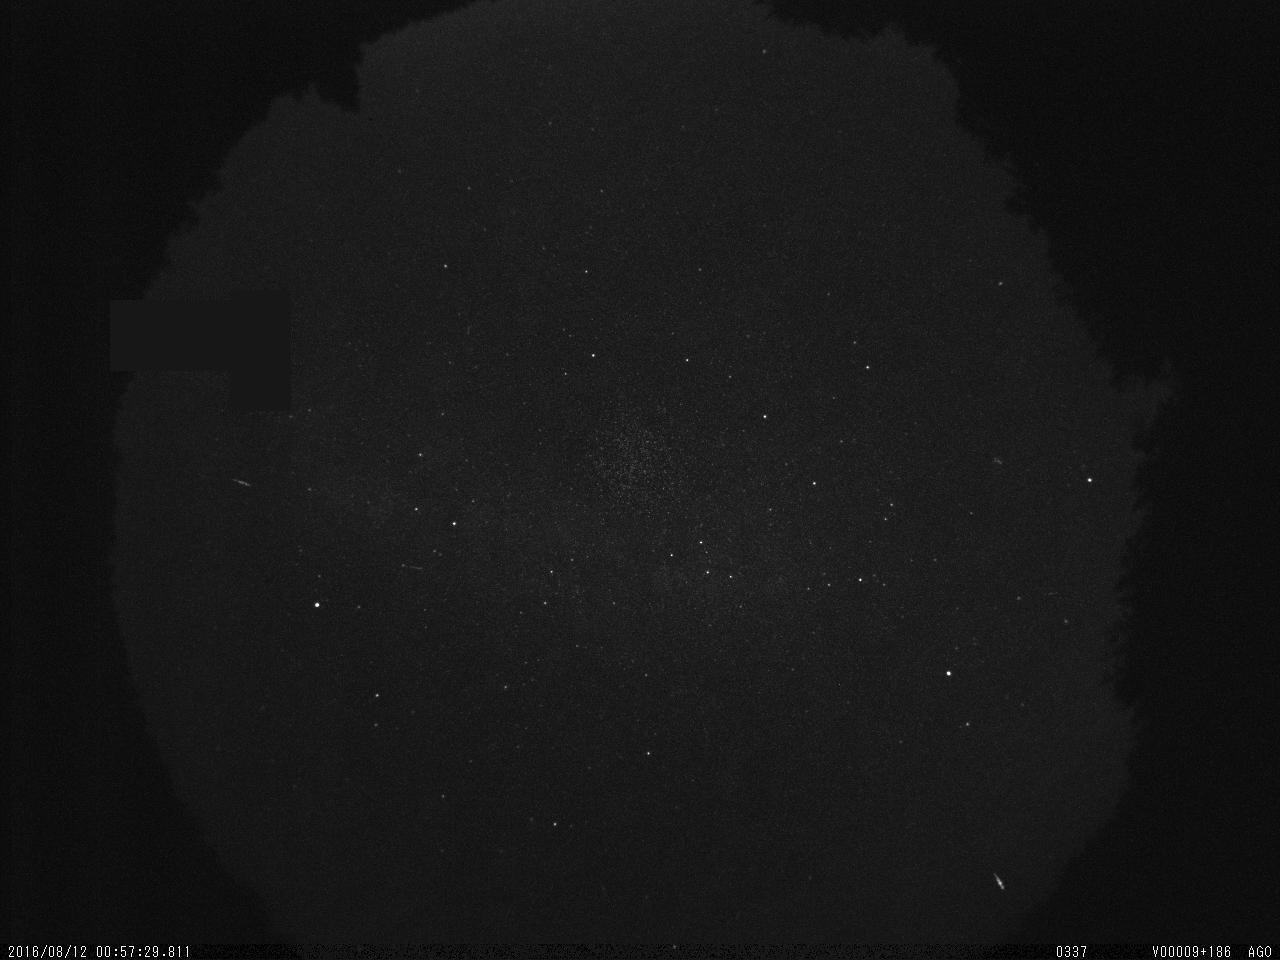meteor: (984, 861, 1019, 906), (228, 469, 259, 496)
